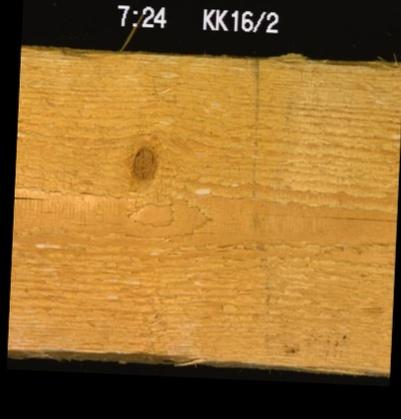sound_knot: (128, 143, 158, 182)
split: (13, 186, 58, 203)
wave: (12, 342, 205, 363)
